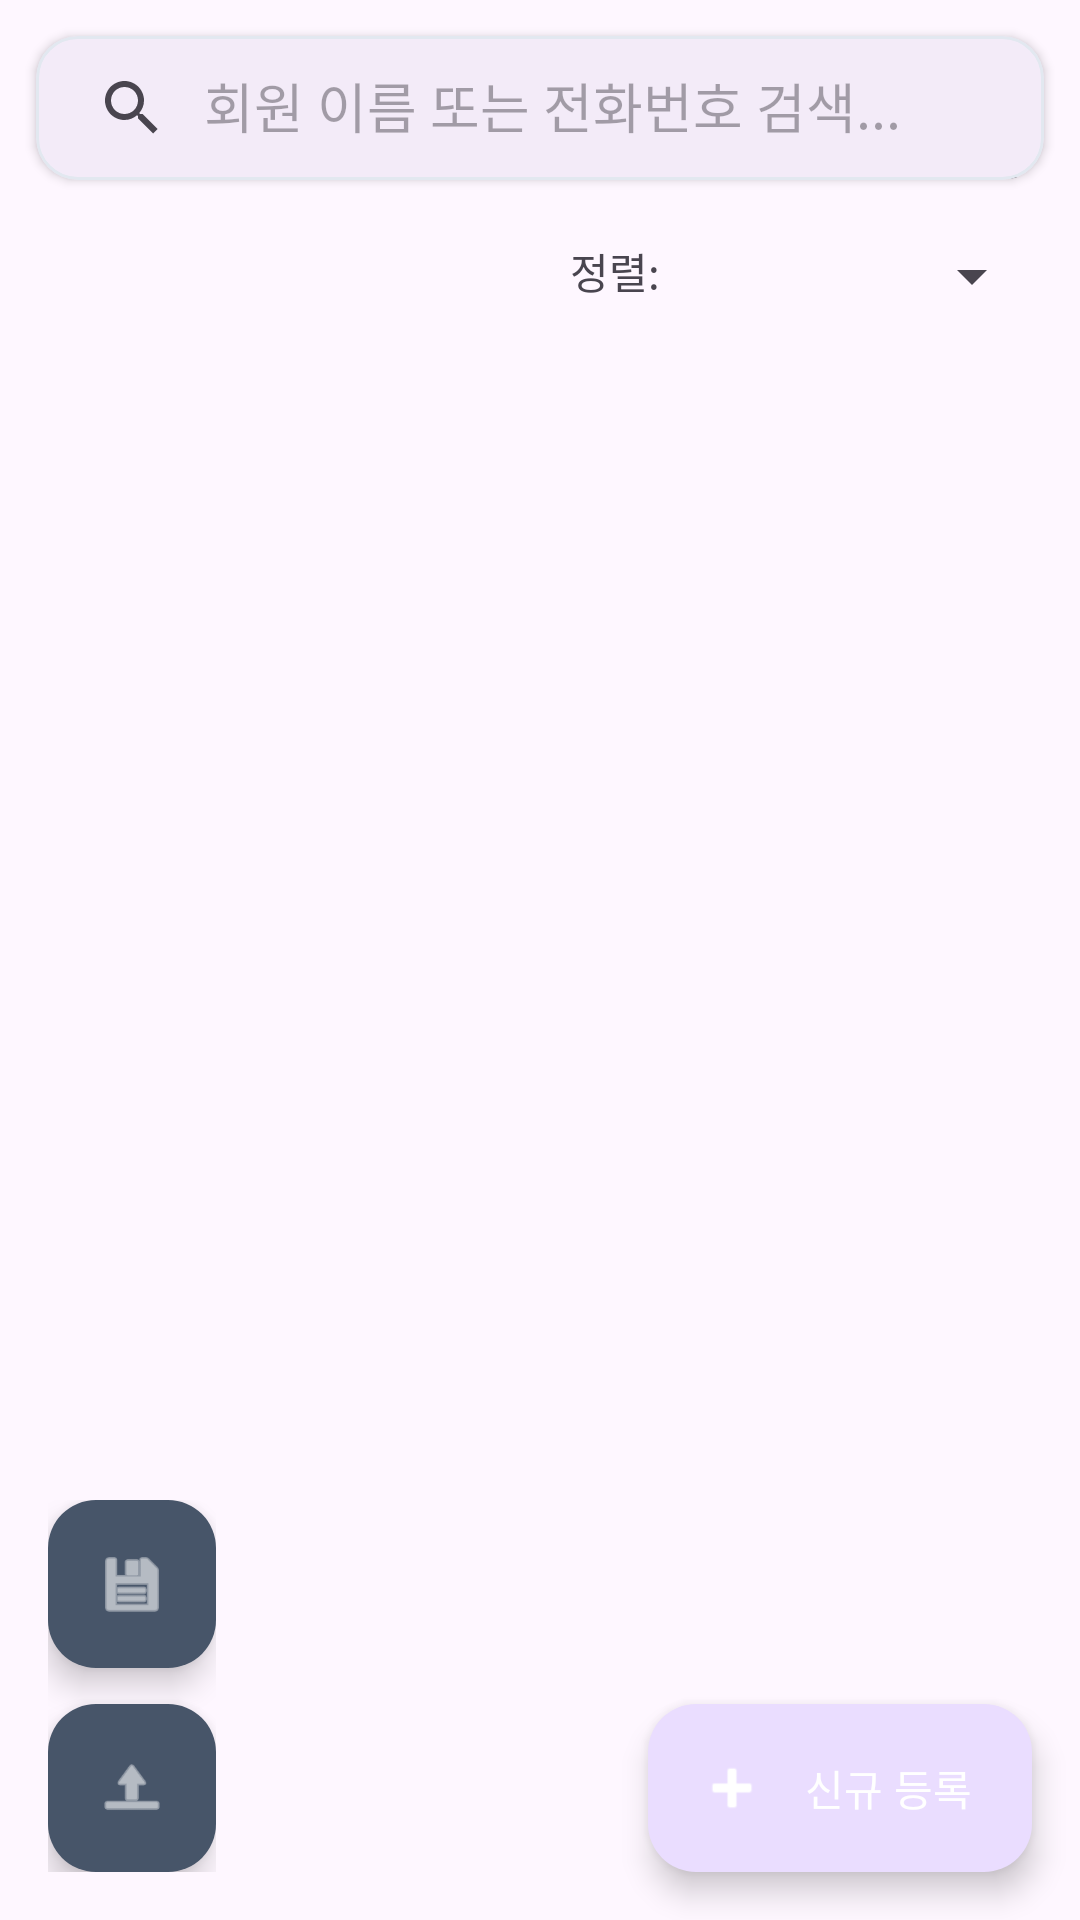

Icon bounding boxes for this 1080×1920 phone screenshot, format region(x1, y1, x2, y2):
엑셀로 내보내기: region(48, 1500, 216, 1668)
엑셀에서 가져오기: region(48, 1704, 216, 1872)
